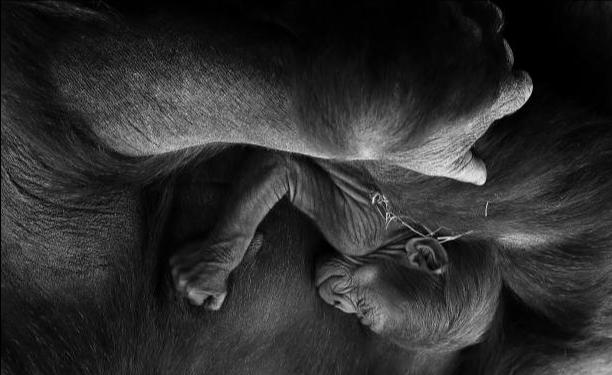gorille_Autres: (218, 153, 496, 354)
